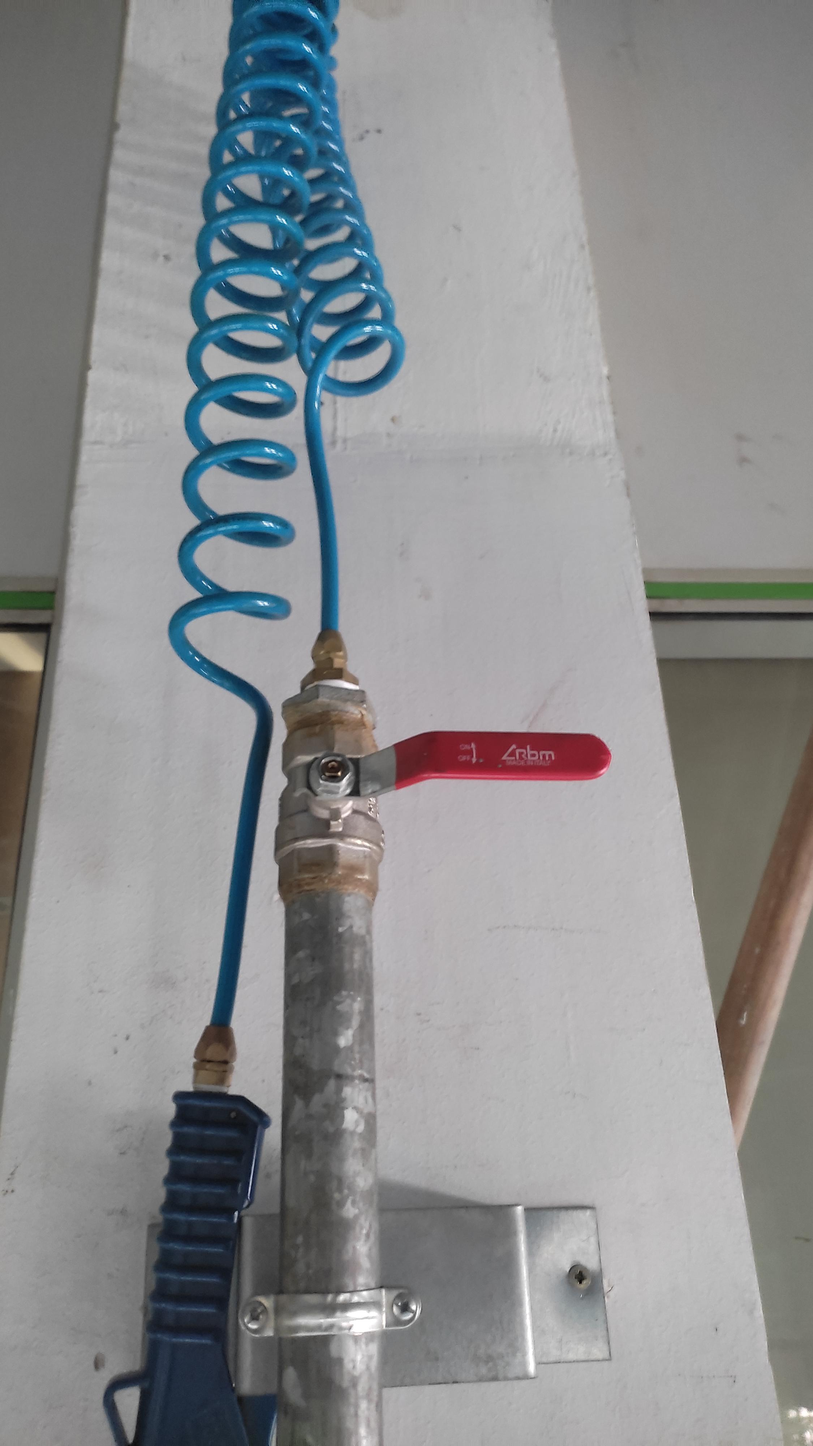closed valve: (271, 705, 613, 882)
